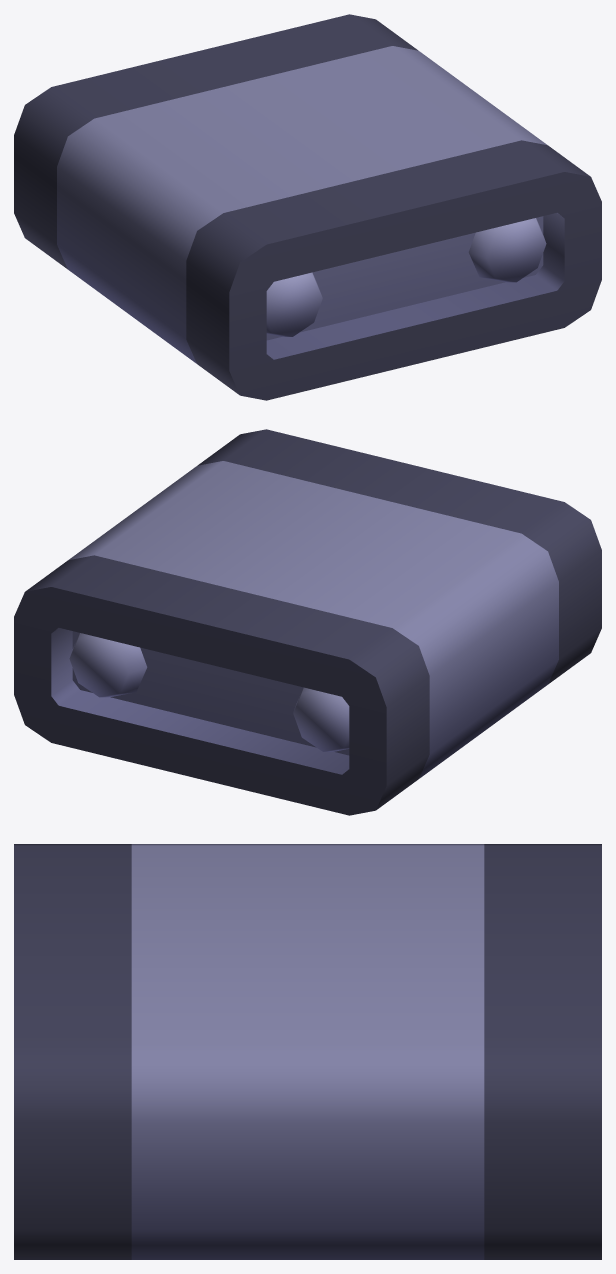
The model's file is kenney-factory-conveyor-stripe.glb.
3 views of the same model, one above another, from view 1: azimuth 30°, elevation 25°; view 2: azimuth 150°, elevation 25°; view 3: azimuth 270°, elevation 25° (orthographic). The views are drawn at different scales.
Visible parts, largest first — view 1: conveyor-stripe; view 2: conveyor-stripe; view 3: conveyor-stripe.
Boxes of the visible parts, bbox=[...] form: conveyor-stripe: bbox=[14, 14, 601, 400]; conveyor-stripe: bbox=[14, 429, 601, 815]; conveyor-stripe: bbox=[14, 844, 601, 1259].
Bounding box in the file's own units: 1.5 × 0.6 × 1.5.
1 material, 1 textured.
